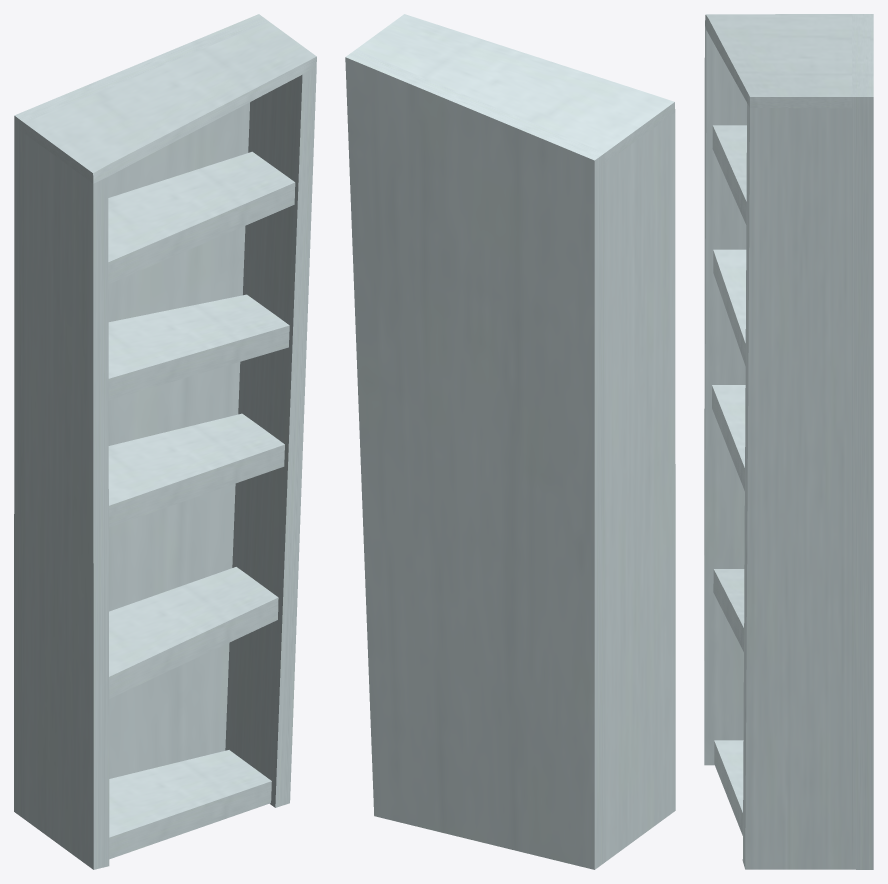
File: librero.fbx
3 views of the same model, side by side, from view 1: azimuth 30°, elevation 25°; view 2: azimuth 150°, elevation 25°; view 3: azimuth 270°, elevation 25° (orthographic). The views are drawn at different scales.
Visible parts, largest first — view 1: polySurface4; view 2: polySurface4; view 3: polySurface4.
Boxes of the visible parts, x1,y1,x2,y2 form: polySurface4: [14, 14, 316, 869]; polySurface4: [345, 14, 675, 869]; polySurface4: [704, 14, 873, 869].
Bounding box in the file's own units: 3.47 × 9.99 × 1.95.
